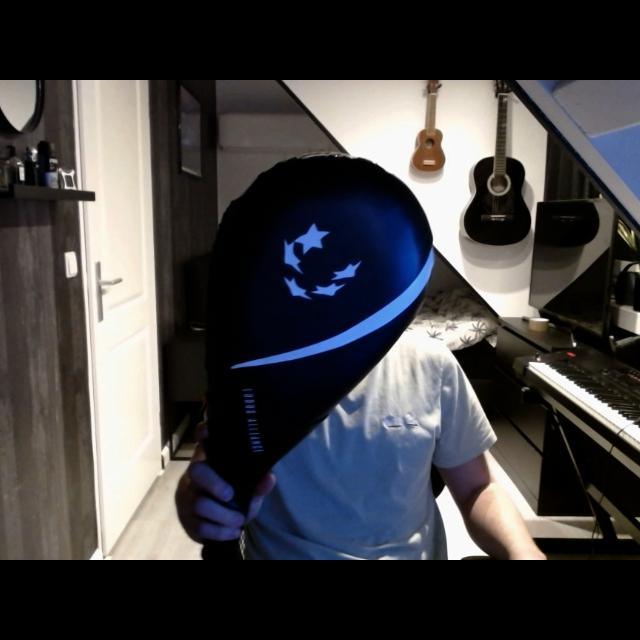paddle: (206, 150, 434, 485)
